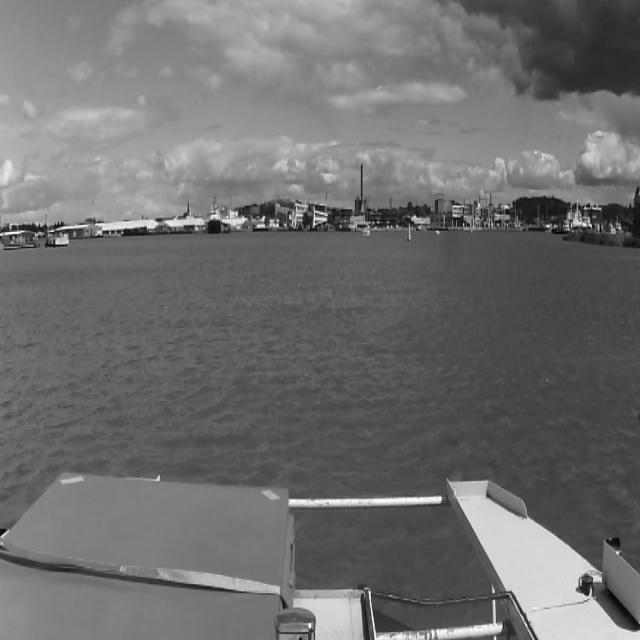buoy: (408, 224, 411, 241)
ship: (552, 201, 592, 235), (209, 195, 221, 233), (362, 223, 370, 237), (416, 223, 426, 231)
